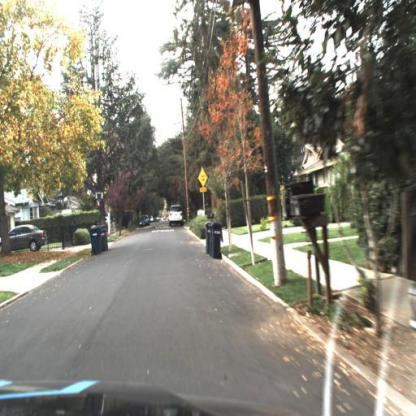car: (3, 220, 50, 259), (169, 203, 186, 228), (138, 210, 152, 229)
